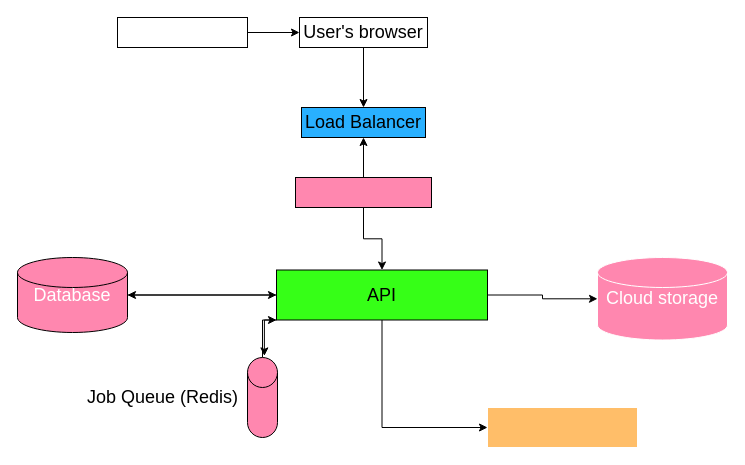
Some shapes in this 745 by 465 pixel diagram are drawn without their labels. Each missing label, with the centre of its shape:
"DNS" goes at point (182, 32).
"Frontend" goes at point (363, 192).
"Services" goes at point (562, 427).
